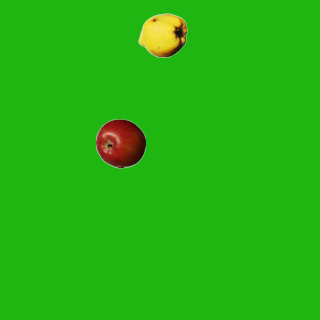Apple Braeburn: (95, 118, 145, 168)
Quince: (137, 10, 187, 60)
